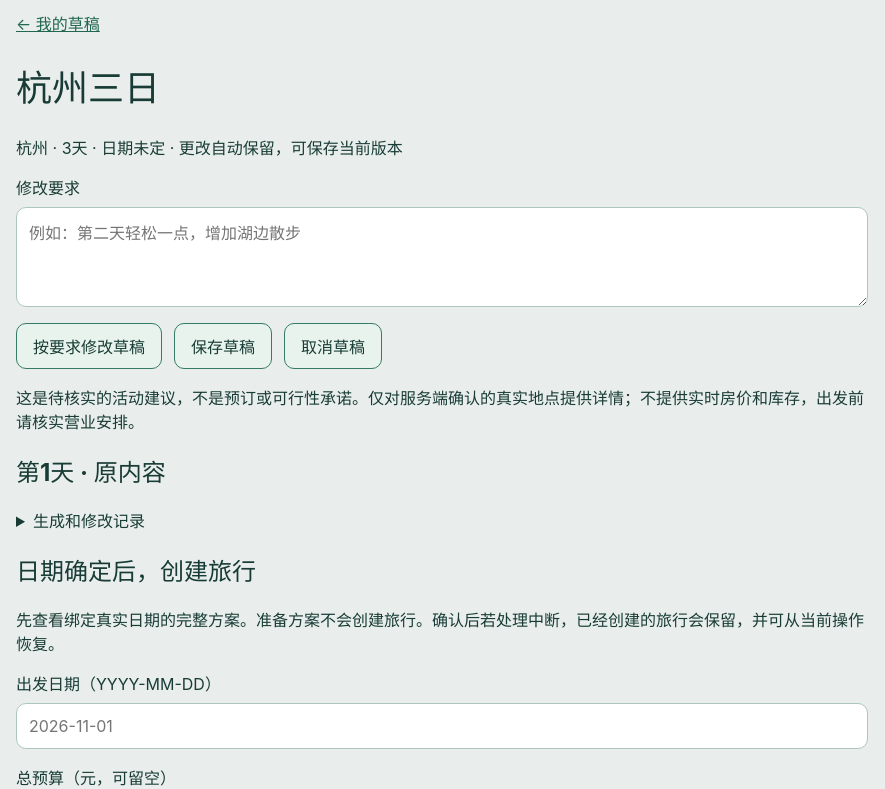
shows a recoverable failure and keeps the existing plan
Click the button "按要求修改草稿" at (89, 346), box [16,323,162,369]
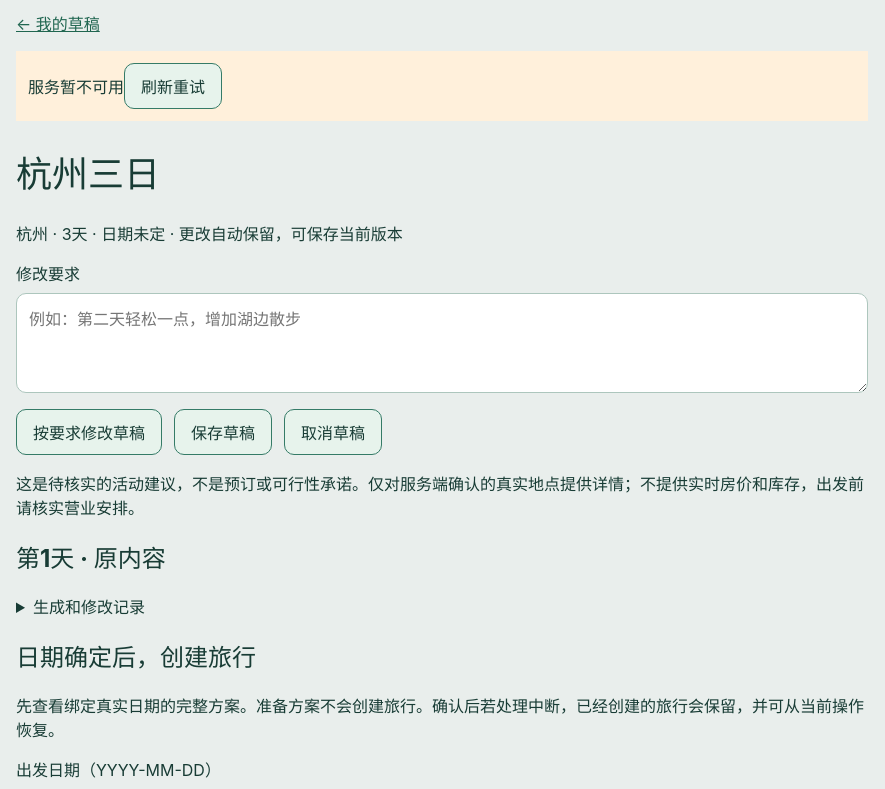
Expected: the heading "第1天 · 原内容" is shown, [16,544,166,573]
Expected: the message shows "服务暂不可用", [28,77,124,97]
Expected: the button "刷新重试" is shown, [124,63,222,109]
